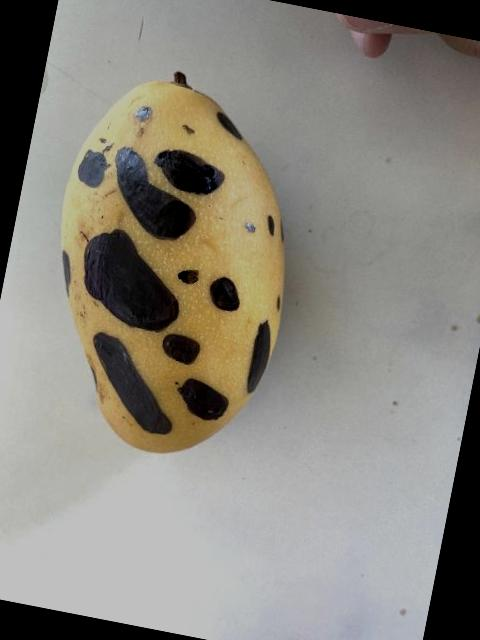Mango Overripe: (11, 25, 346, 492)
